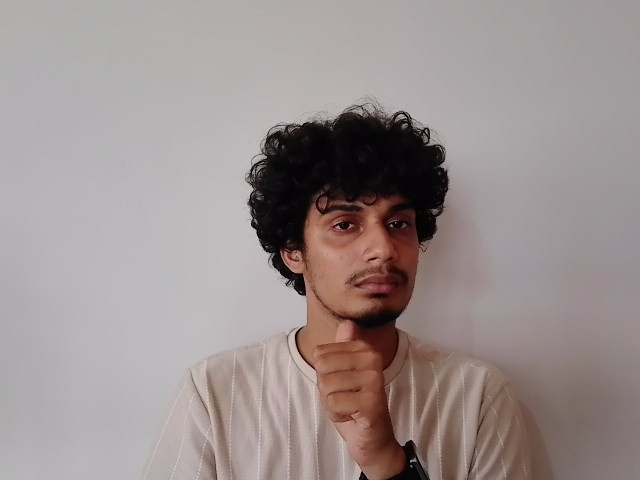not: (302, 293, 420, 398)
